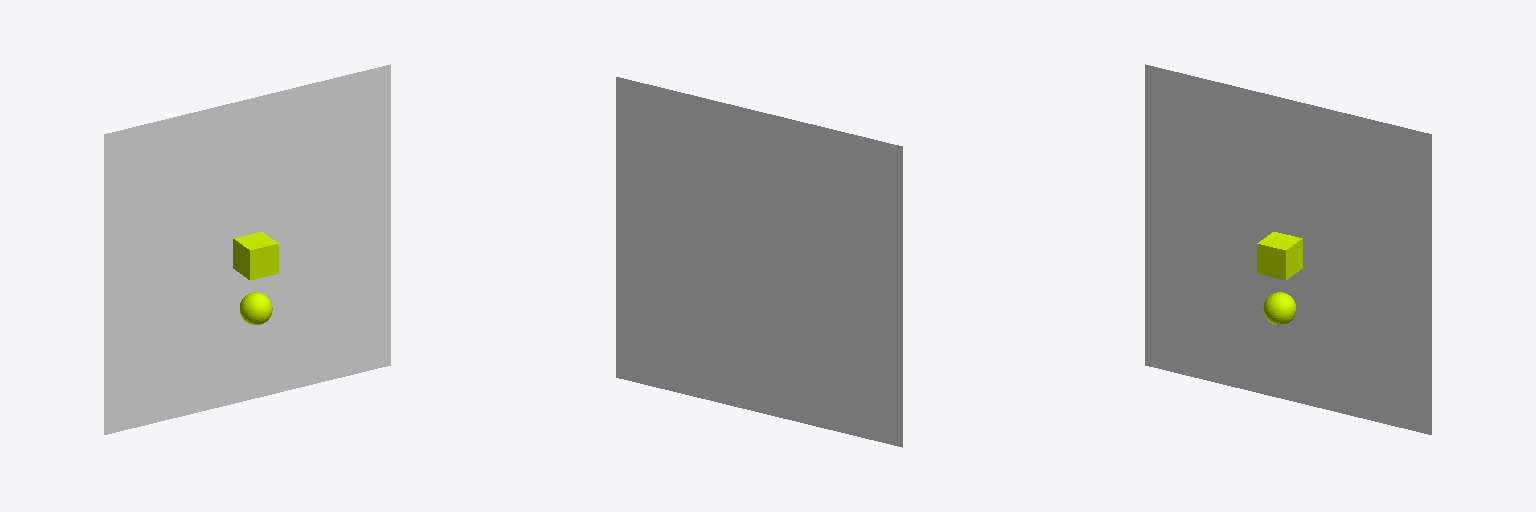
3 views of the same model, side by side, from view 1: azimuth 30°, elevation 25°; view 2: azimuth 150°, elevation 25°; view 3: azimuth 330°, elevation 25° (orthographic).
Visible parts, largest first — view 1: Plane001, Box001, GeoSphere001; view 2: Plane001; view 3: Plane001, Box001, GeoSphere001.
Part boxes in pixels (x1,y1,x2,y2): Plane001: (104, 64, 390, 434); Box001: (233, 232, 278, 280); GeoSphere001: (240, 292, 272, 324); Plane001: (616, 77, 902, 447); Plane001: (1145, 64, 1431, 434); Box001: (1257, 232, 1302, 280); GeoSphere001: (1263, 292, 1296, 324).
Size of the model in its own units: 1000 by 1000 by 101.